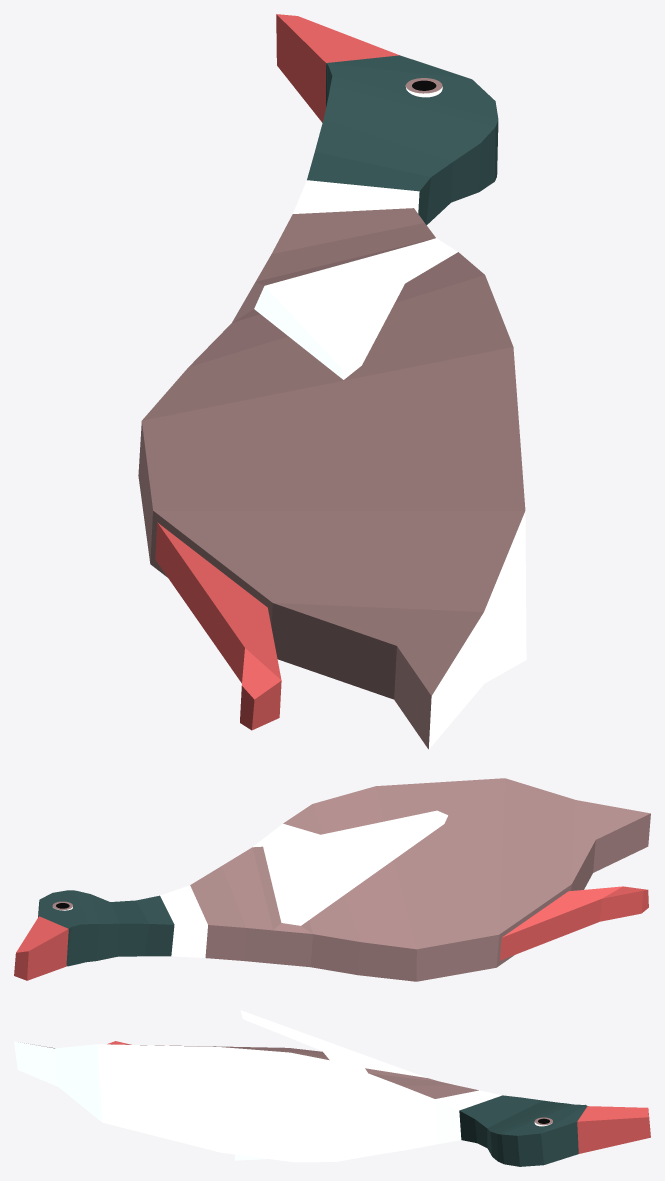
3 renders of one model, top to bottom at view 1: azimuth 30°, elevation 25°; view 2: azimuth 150°, elevation 25°; view 3: azimuth 270°, elevation 25°, orthographic. The views are drawn at different scales.
Parts seen in each view (by area): view 1: Plane; view 2: Plane; view 3: Plane.
Part boxes in pixels (x1,y1,x2,y2): Plane: (138, 14, 526, 749); Plane: (14, 778, 650, 981); Plane: (14, 1010, 650, 1166).
Bounding box in the file's own units: 7.57 × 3.13 × 12.7.
